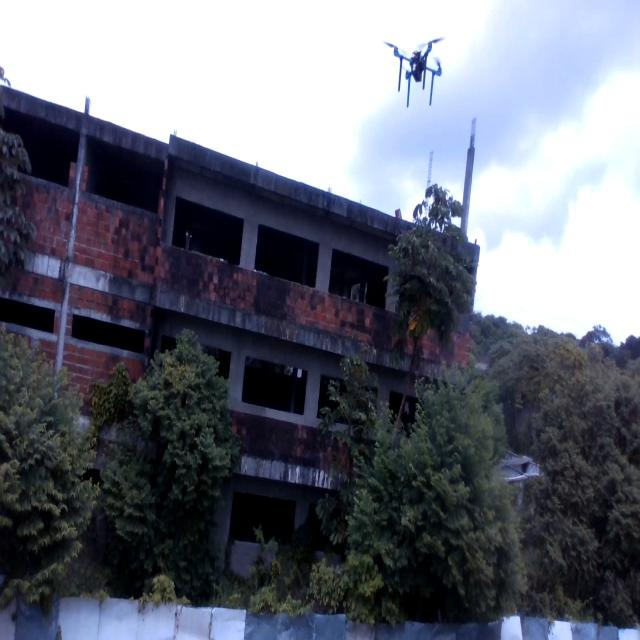-uav-: (378, 22, 452, 117)
